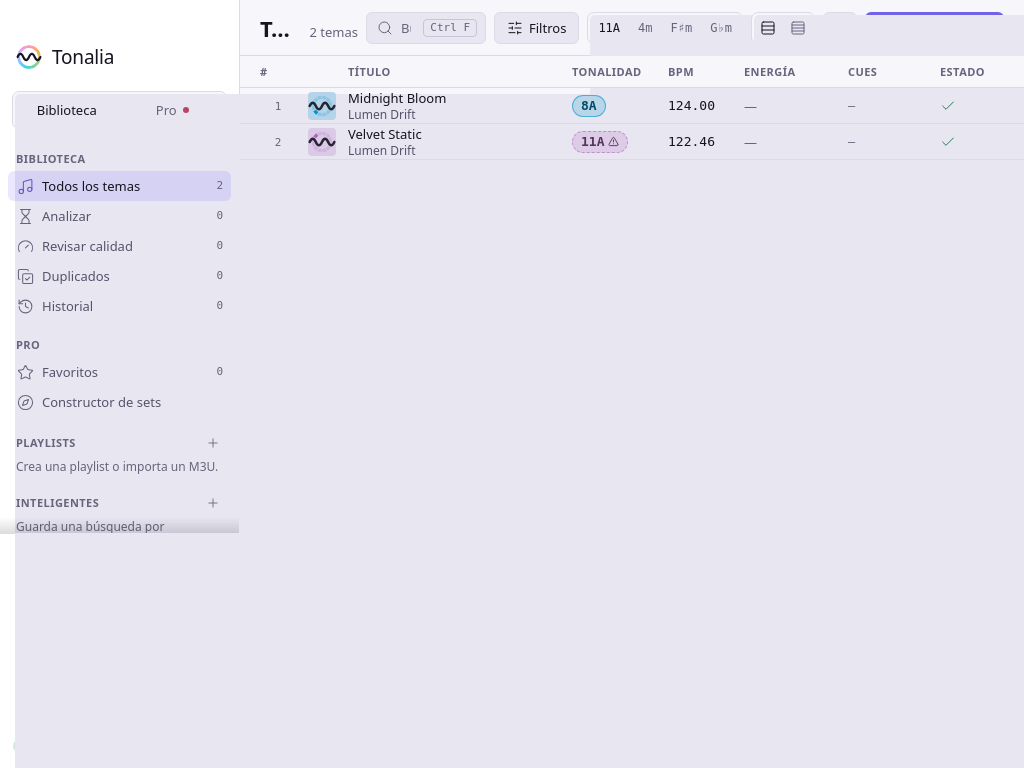
Test: key and BPM › switches notation from the top bar and persists it in the engine
Expected: the text "2 temas" is shown, [310, 22, 358, 42]
What coordinates should you click on to do the following:
click the radio button labelled "4m"
I would click on:
 (645, 28)
Its box is [630, 14, 661, 40].
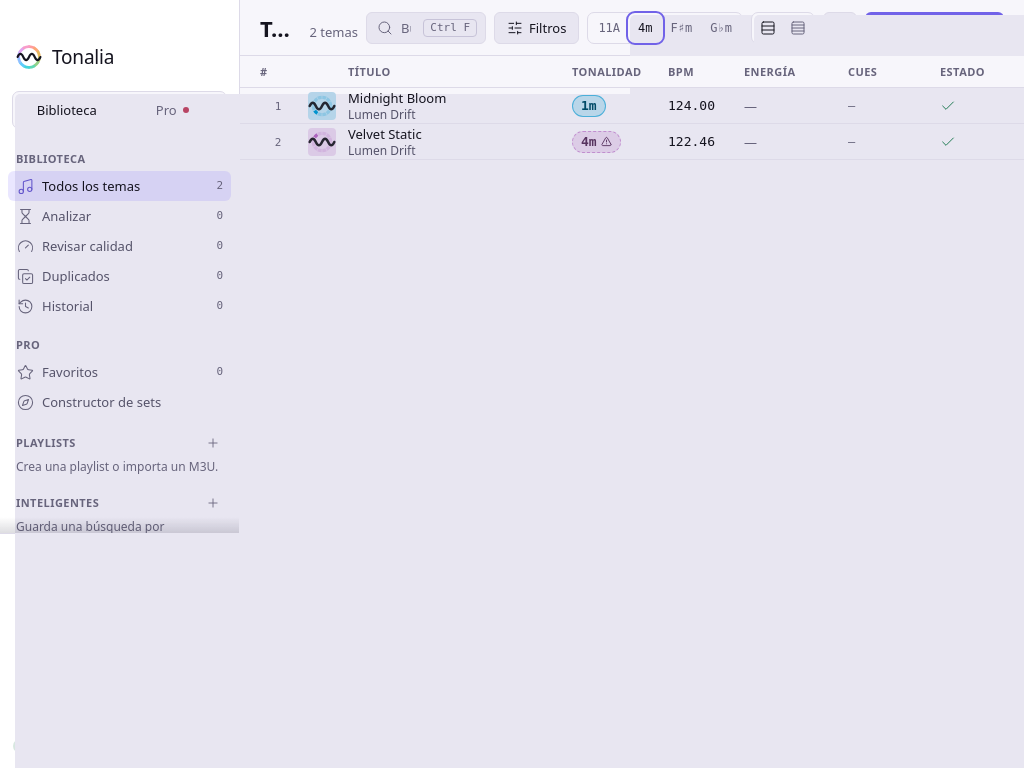
Result: the text "1m" is shown at [572, 94, 606, 116]
What coordinates should you click on to do the following:
click the radio button labelled "F♯m"
I would click on:
 (681, 28)
Its box is [662, 14, 700, 40].
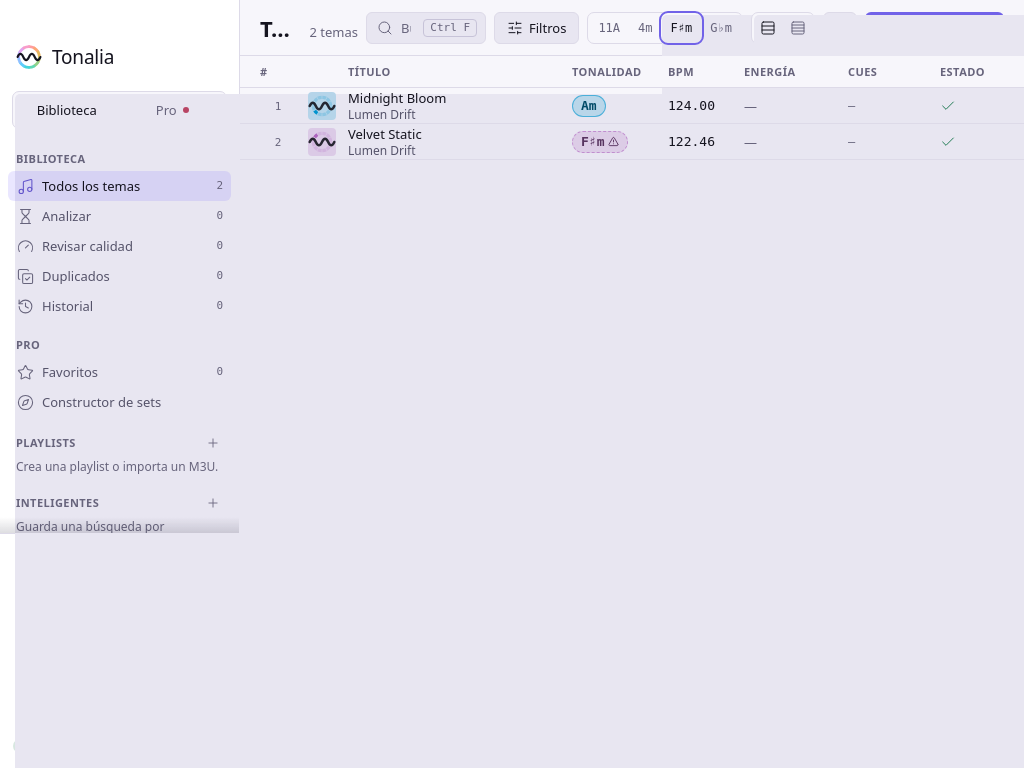
Result: the text "F♯m" is shown at [572, 130, 628, 152]
